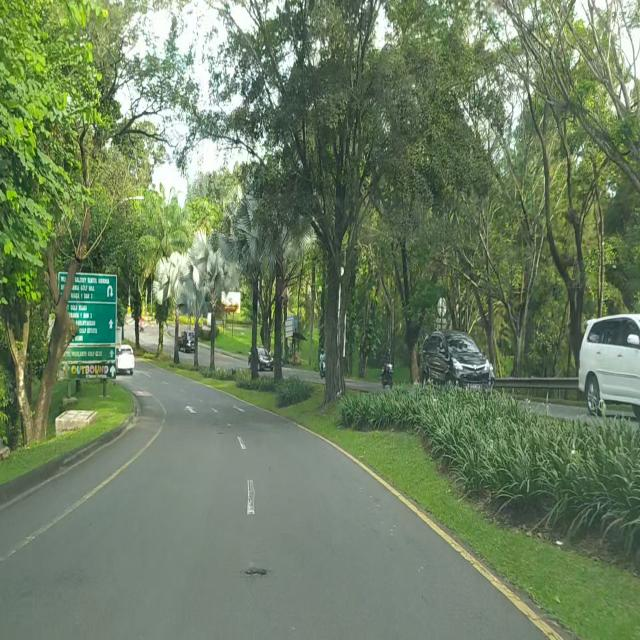Sewer Cover: (243, 568, 270, 578)
